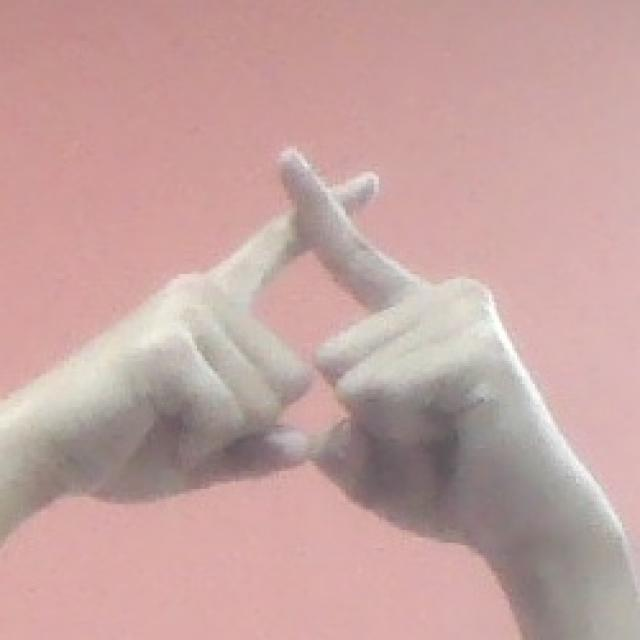Alphabet-X: (0, 133, 593, 554)
